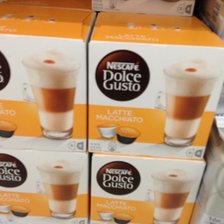coffee: (87, 11, 224, 158), (1, 7, 96, 153), (90, 152, 206, 224), (1, 151, 90, 224)
